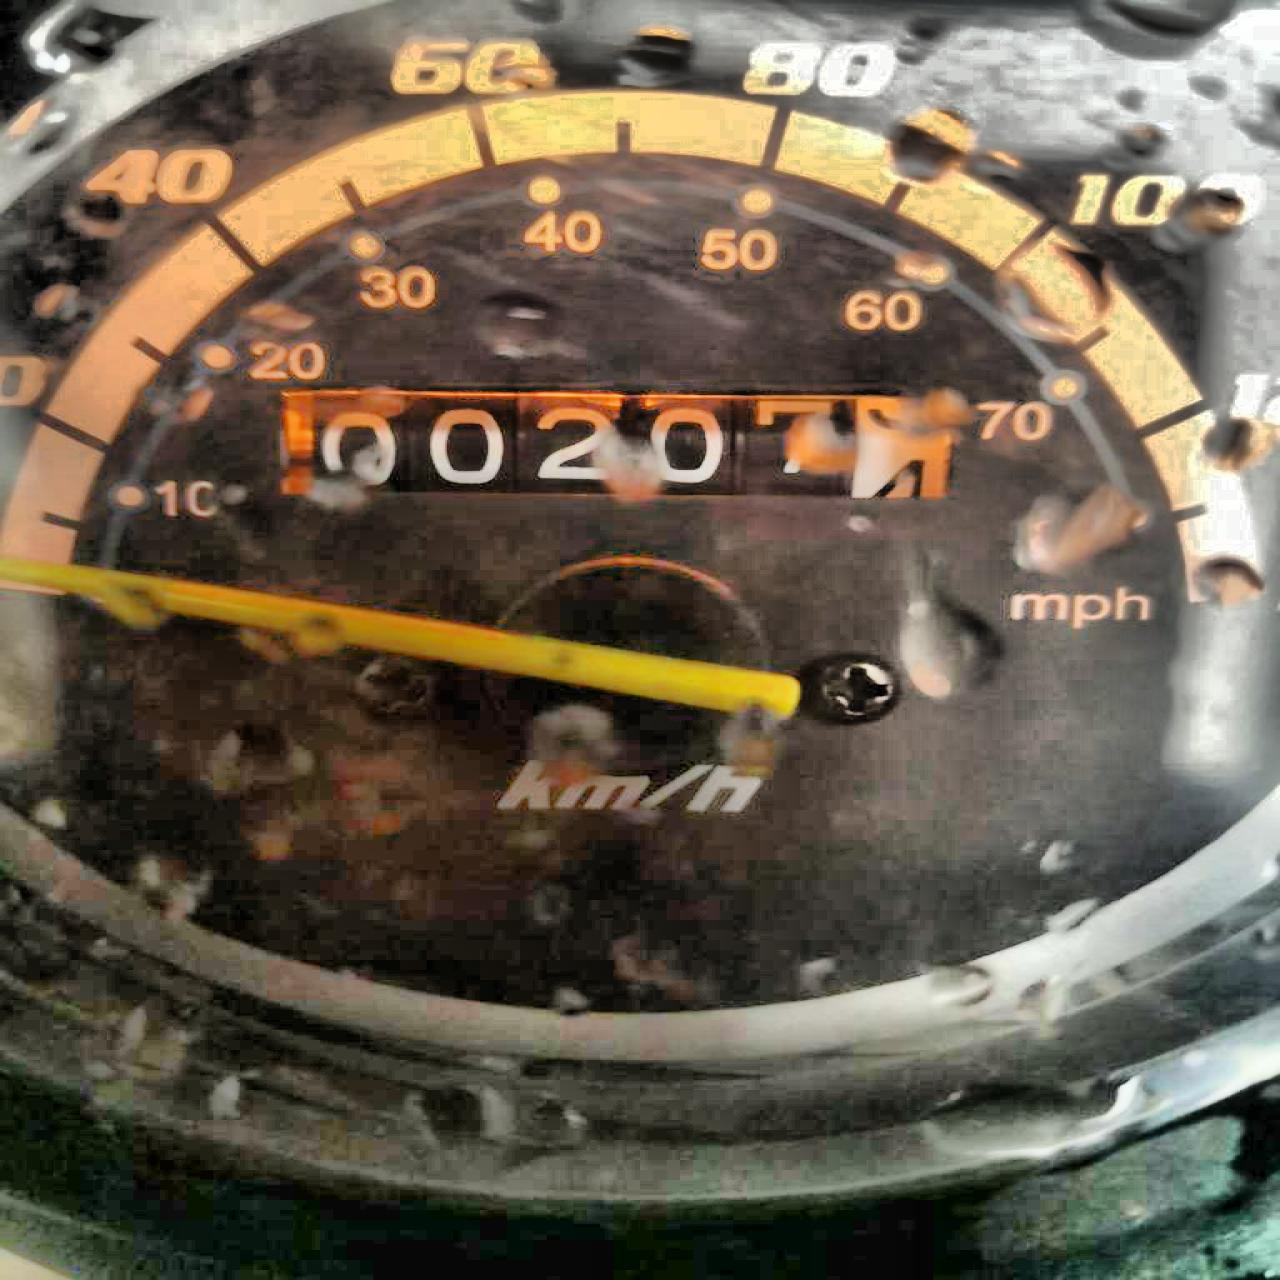0: (320, 402, 402, 497), (645, 401, 723, 491), (427, 402, 509, 488)
2: (531, 396, 621, 490)
4: (852, 444, 938, 505)
7: (755, 393, 840, 488)
odometer: (264, 375, 974, 517)
